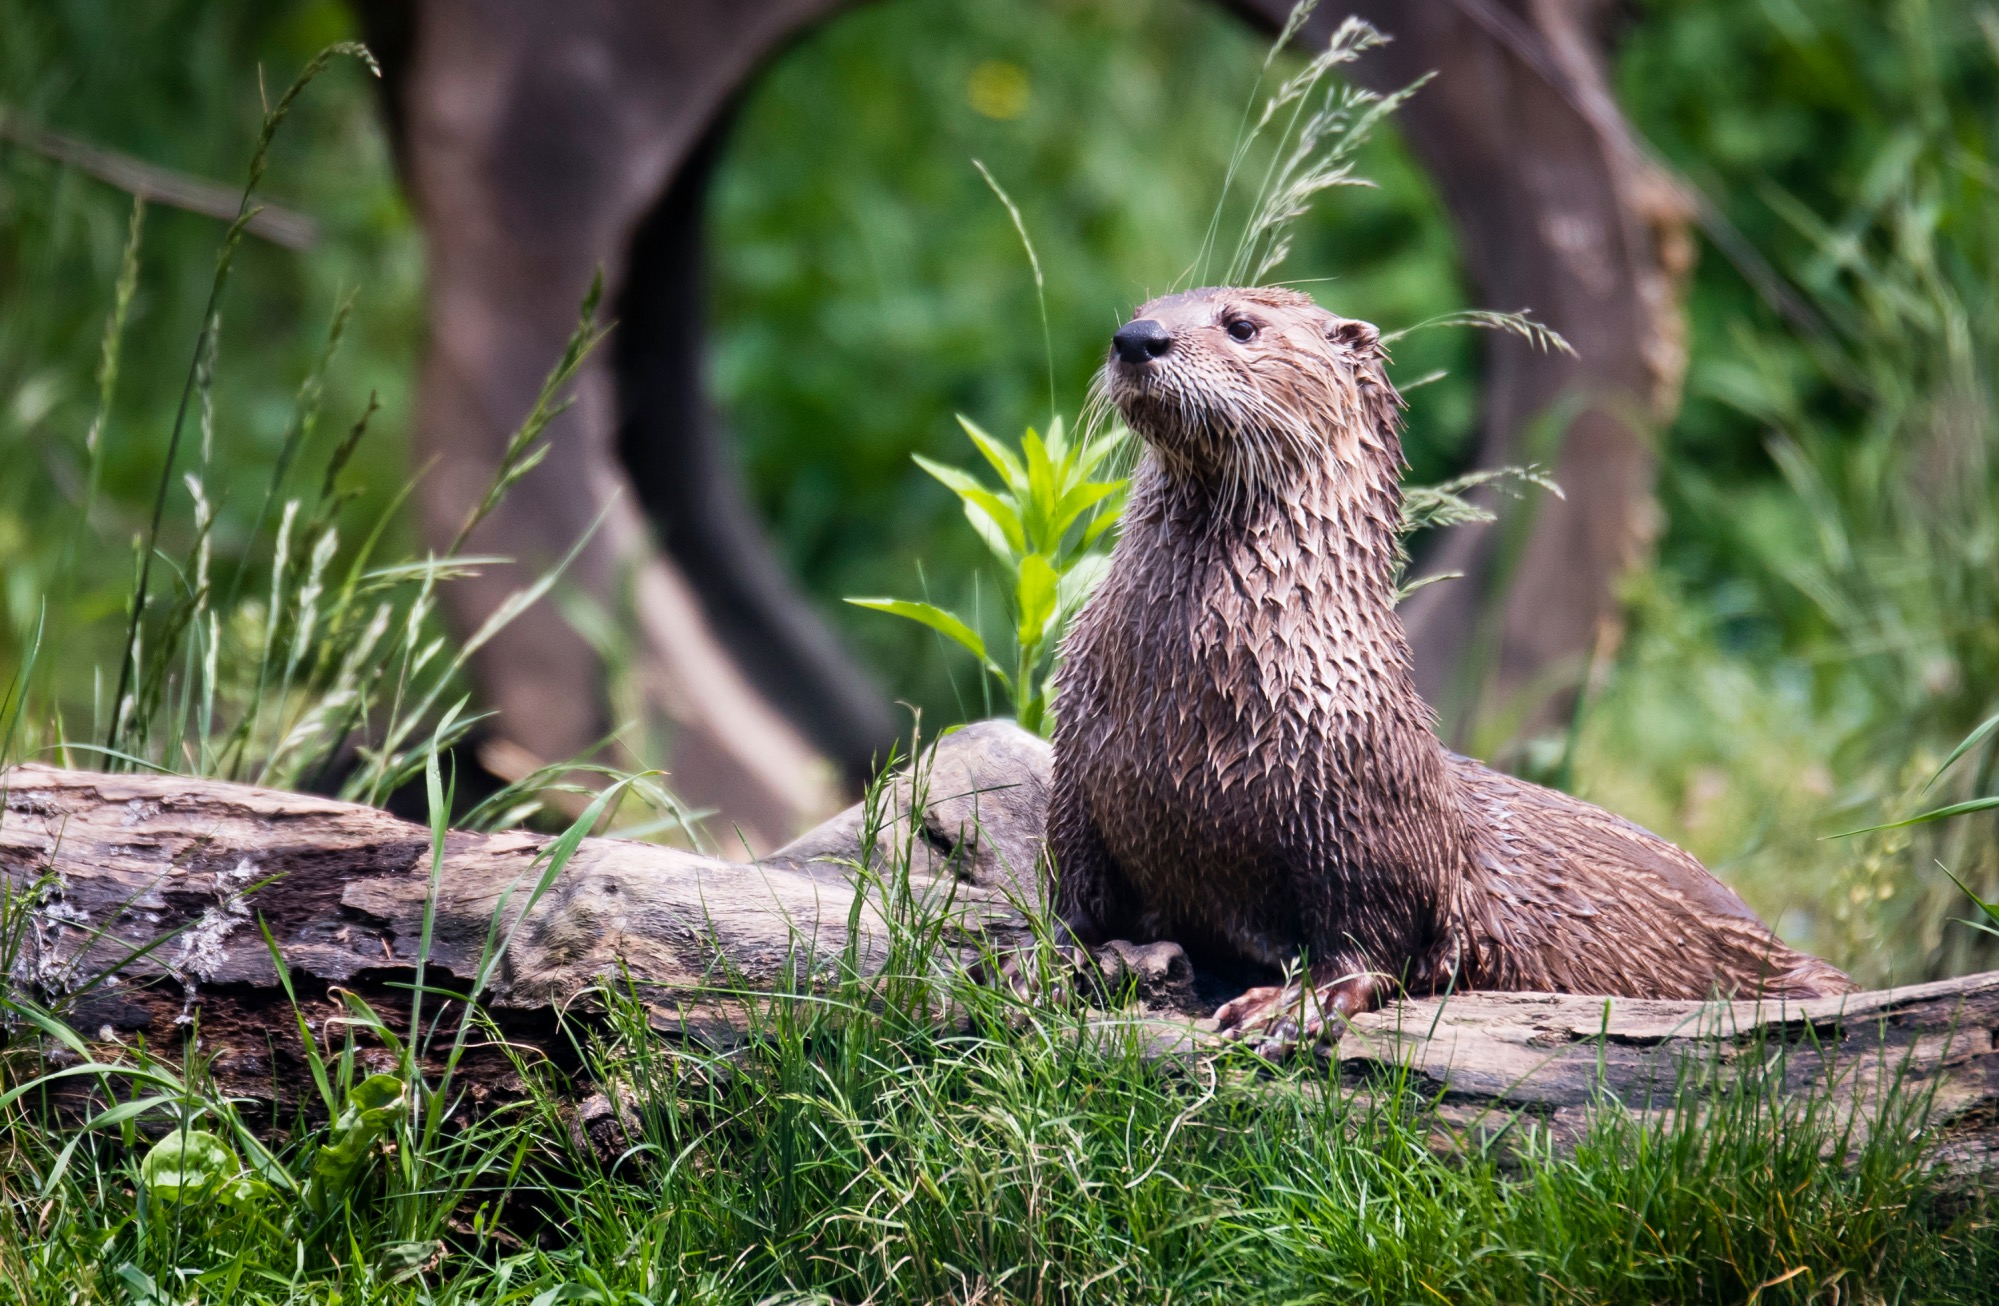otter: (1013, 261, 1877, 1115)
